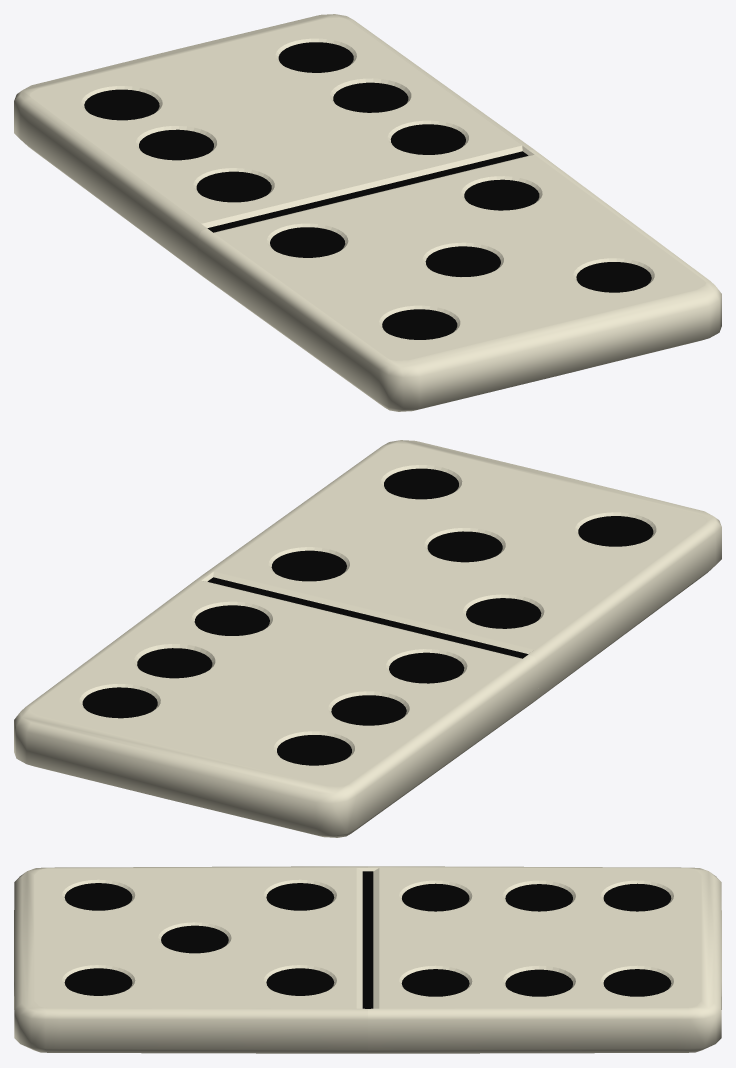
File: Domino_5_6.glb
The picture shows the model from 3 angles, top to bottom: view 1: azimuth 30°, elevation 25°; view 2: azimuth 150°, elevation 25°; view 3: azimuth 270°, elevation 25°; orthographic projection. The views are drawn at different scales.
Visible parts, largest first — view 1: Domino_5_6_A.001, Domino_5_6_B.001; view 2: Domino_5_6_B.001, Domino_5_6_A.001; view 3: Domino_5_6_A.001, Domino_5_6_B.001.
Boxes of the visible parts, left/top/right/bottom form: Domino_5_6_A.001: left=197, top=149, right=721, bottom=411; Domino_5_6_B.001: left=14, top=14, right=533, bottom=276; Domino_5_6_B.001: left=14, top=575, right=538, bottom=837; Domino_5_6_A.001: left=202, top=440, right=721, bottom=702; Domino_5_6_A.001: left=14, top=866, right=367, bottom=1053; Domino_5_6_B.001: left=368, top=866, right=721, bottom=1053.
Bounding box in the file's own units: 0.7725 × 0.1053 × 1.54.
